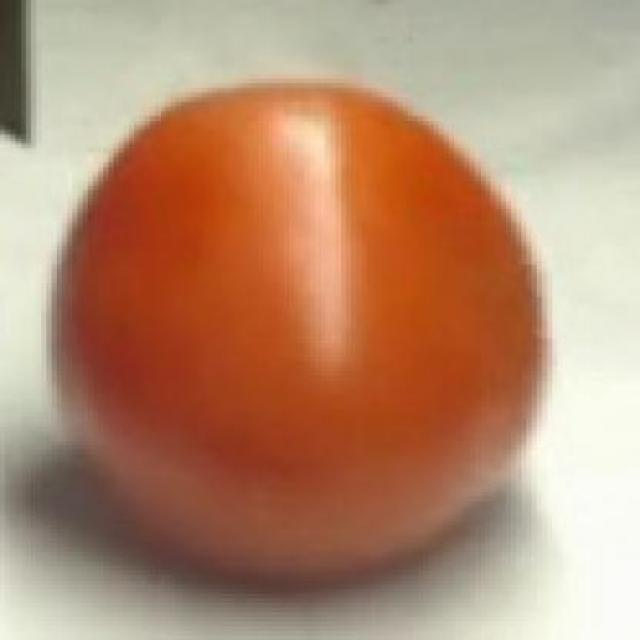tomato: (54, 84, 545, 578)
